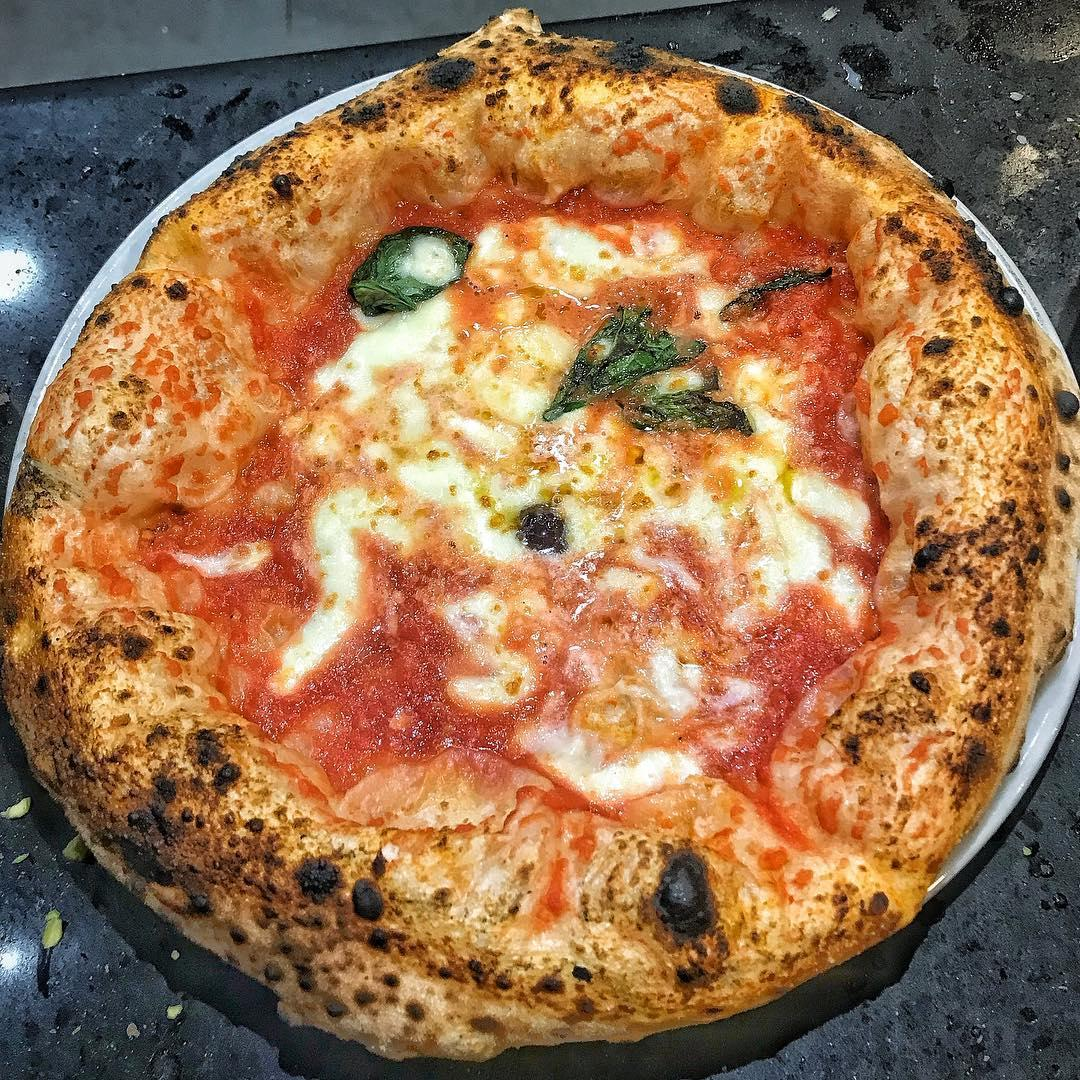Basil: (541, 307, 753, 441), (345, 219, 460, 313)
Pizza: (3, 31, 1080, 1056)
